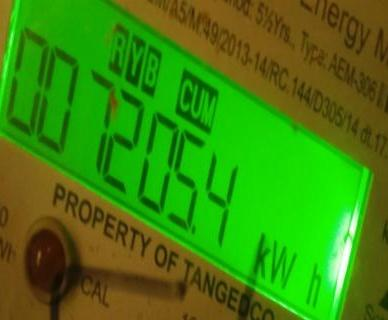.: (249, 231, 330, 308)
0: (187, 225, 201, 240)
1: (32, 45, 78, 156), (5, 27, 48, 134), (139, 109, 180, 212)
3: (103, 87, 144, 190)
5: (205, 150, 243, 245)
6: (166, 128, 203, 225)
8: (81, 67, 113, 174)
